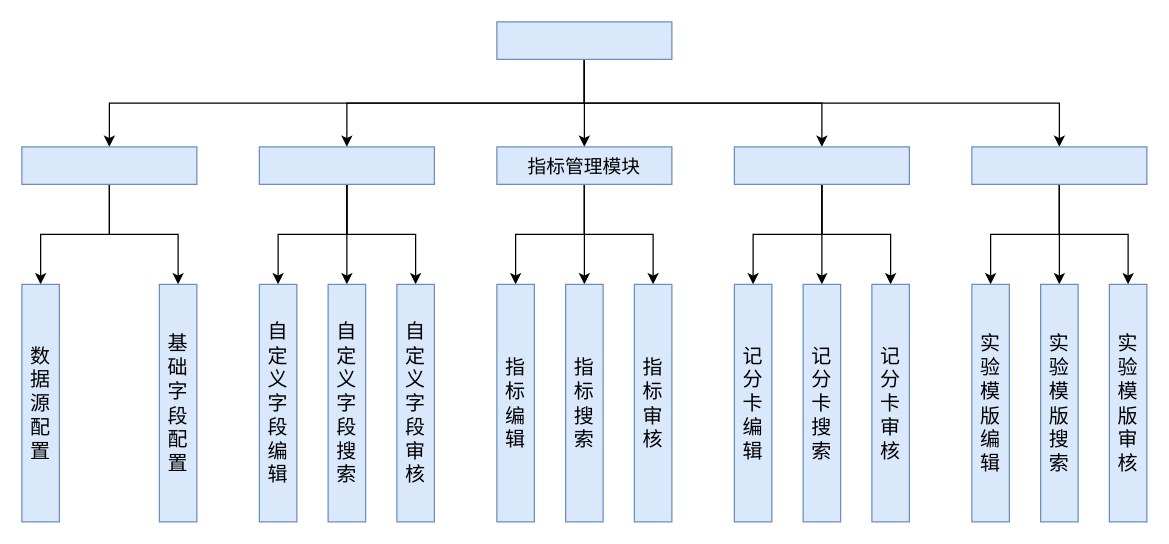
Some shapes in this 1169 by 544 pixel diagram are drawn without their labels. The shapes that lost their labels are listed below. From the top down, each one's centre as x and y in pixels, then its label:
(584,40): 指标管理平台
(109,165): 配置模块
(346,165): 自定义字段管理模块
(821,165): 记分卡管理模块
(1059,165): 实验模版管理模块
